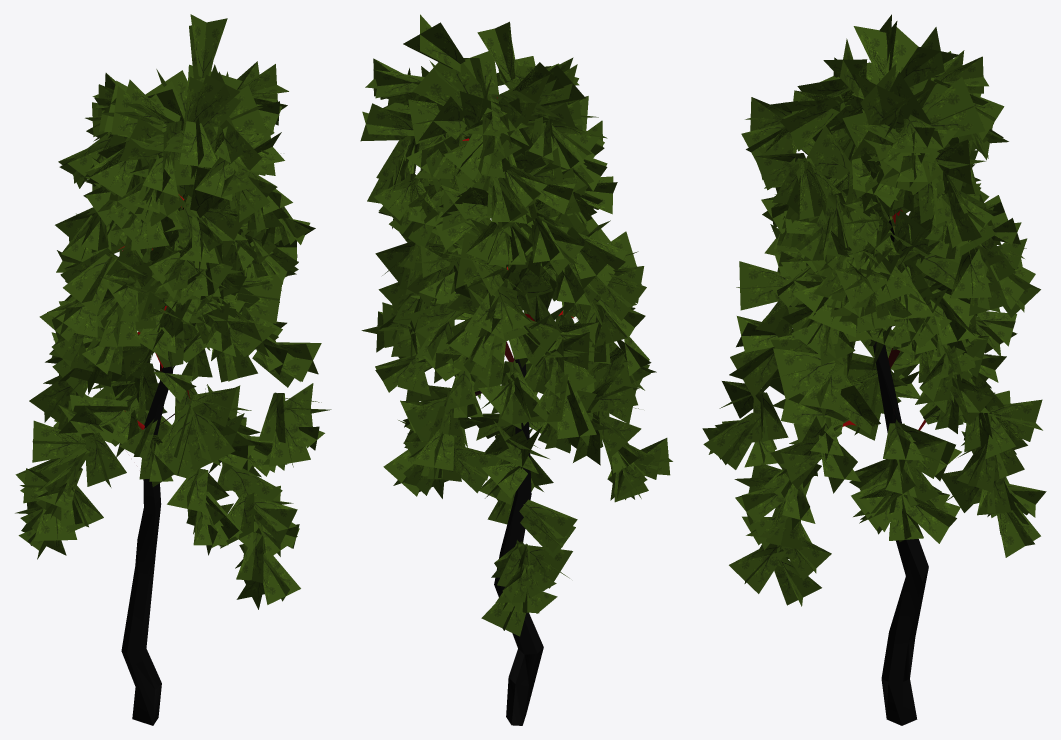
File: birch 4 lod1.FBX
3 views of the same model, side by side, from view 1: azimuth 30°, elevation 25°; view 2: azimuth 150°, elevation 25°; view 3: azimuth 270°, elevation 25° (orthographic). The views are drawn at different scales.
Visible parts, largest first — view 1: birch4_LOD1; view 2: birch4_LOD1; view 3: birch4_LOD1.
Part boxes in pixels (x1,y1,x2,y2): birch4_LOD1: [15, 14, 331, 725]; birch4_LOD1: [360, 14, 672, 725]; birch4_LOD1: [702, 14, 1046, 725].
Size of the model in its own units: 76518 by 177351 by 76373.
